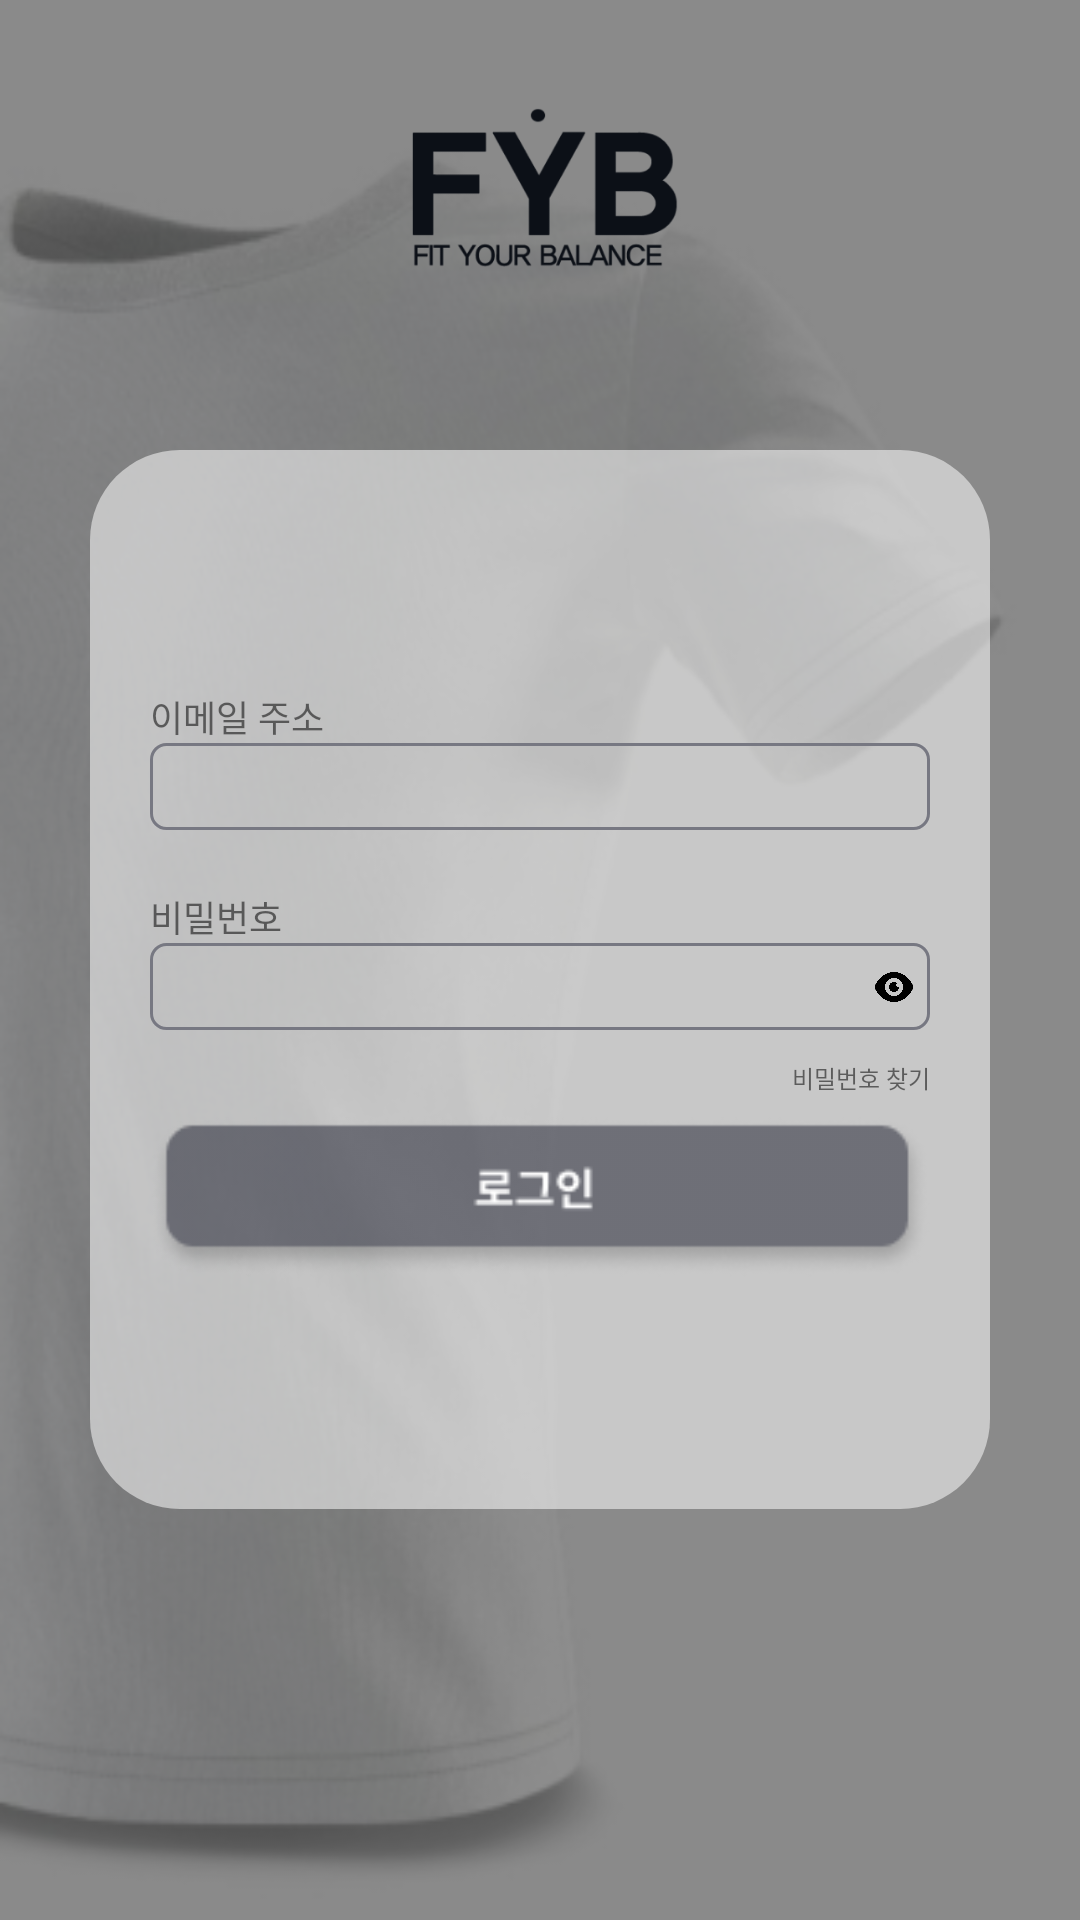

Named icons in this screenshot (1080 x 1920) and their centers, (x,y):
eye open: (894,987)
